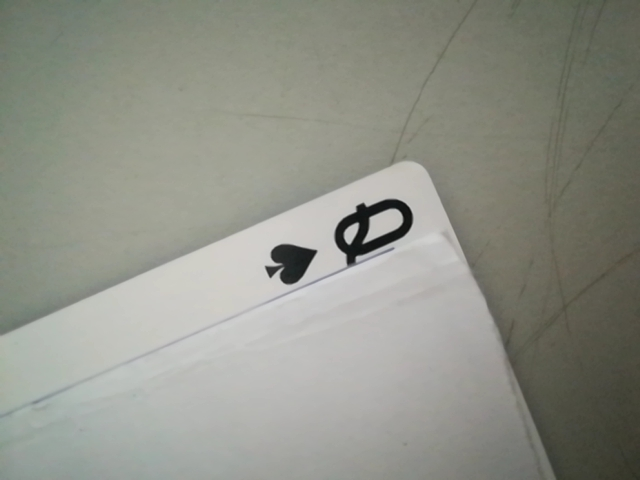ht q: (256, 187, 430, 292)
